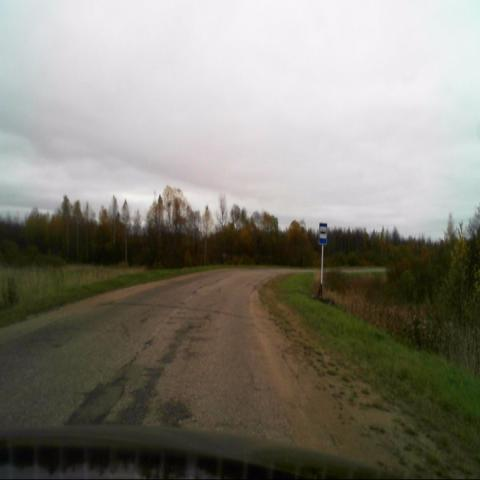5_16: (318, 223, 327, 244)
